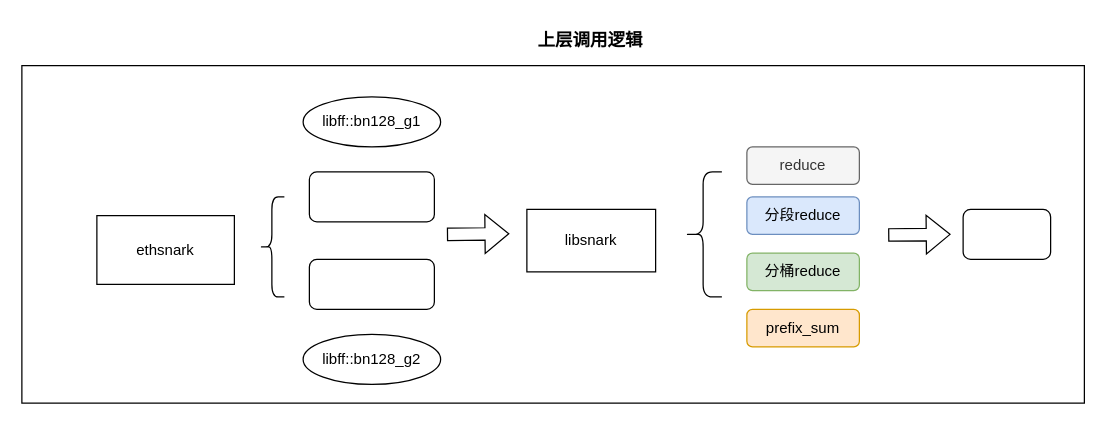
This 1106x425 diagram has some shape labels left out. Each missing label, with the box of its shape:
At, Ht, Lt: (308, 171, 434, 222)
Bt: (308, 258, 434, 309)
libff::add: (962, 208, 1051, 259)
